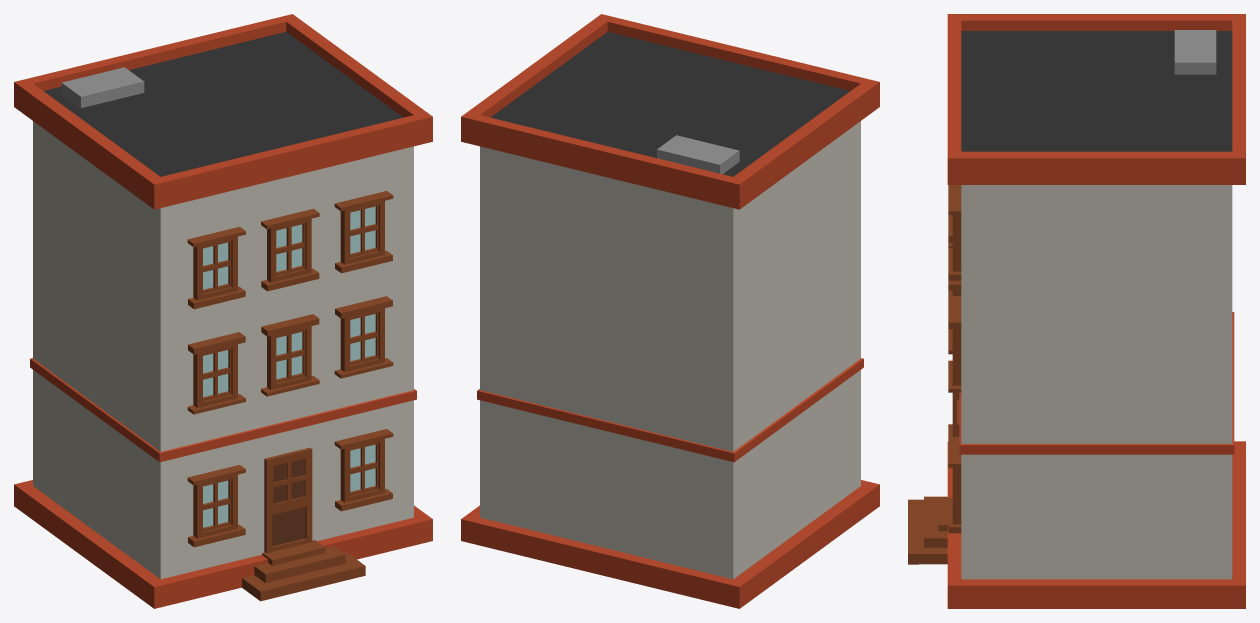
File: flat-1.glb
3 renders of one model, left to right at view 1: azimuth 30°, elevation 25°; view 2: azimuth 150°, elevation 25°; view 3: azimuth 270°, elevation 25°, orthographic. The views are drawn at different scales.
Bounding box in the file's own units: 2.17 × 3.17 × 2.14.
